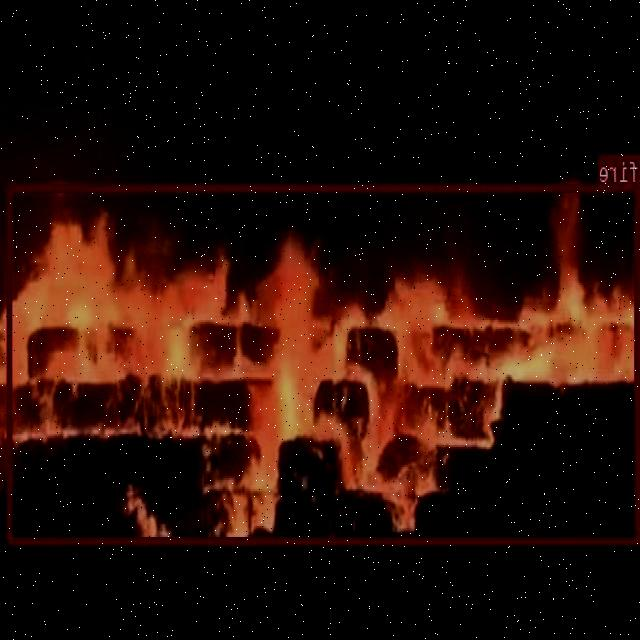fire: (8, 183, 640, 542)
